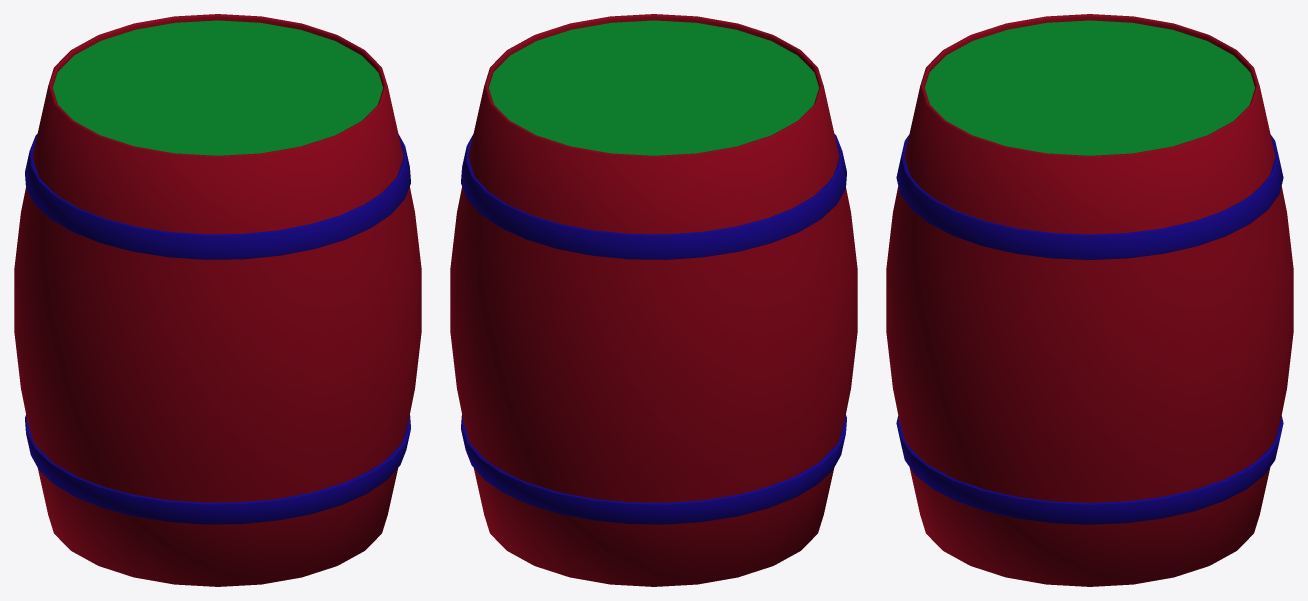
File: Wooden Barrel.fbx
The picture shows the model from 3 angles, left to right: view 1: azimuth 30°, elevation 25°; view 2: azimuth 150°, elevation 25°; view 3: azimuth 270°, elevation 25°; orthographic projection.
Parts seen in each view (by area): view 1: Wooden Barrel; view 2: Wooden Barrel; view 3: Wooden Barrel.
Part boxes in pixels (x1,y1,x2,y2): Wooden Barrel: (14, 14, 421, 586); Wooden Barrel: (450, 14, 857, 586); Wooden Barrel: (886, 14, 1293, 586).
Bounding box in the file's own units: 0.7703 × 0.8993 × 0.7703.
